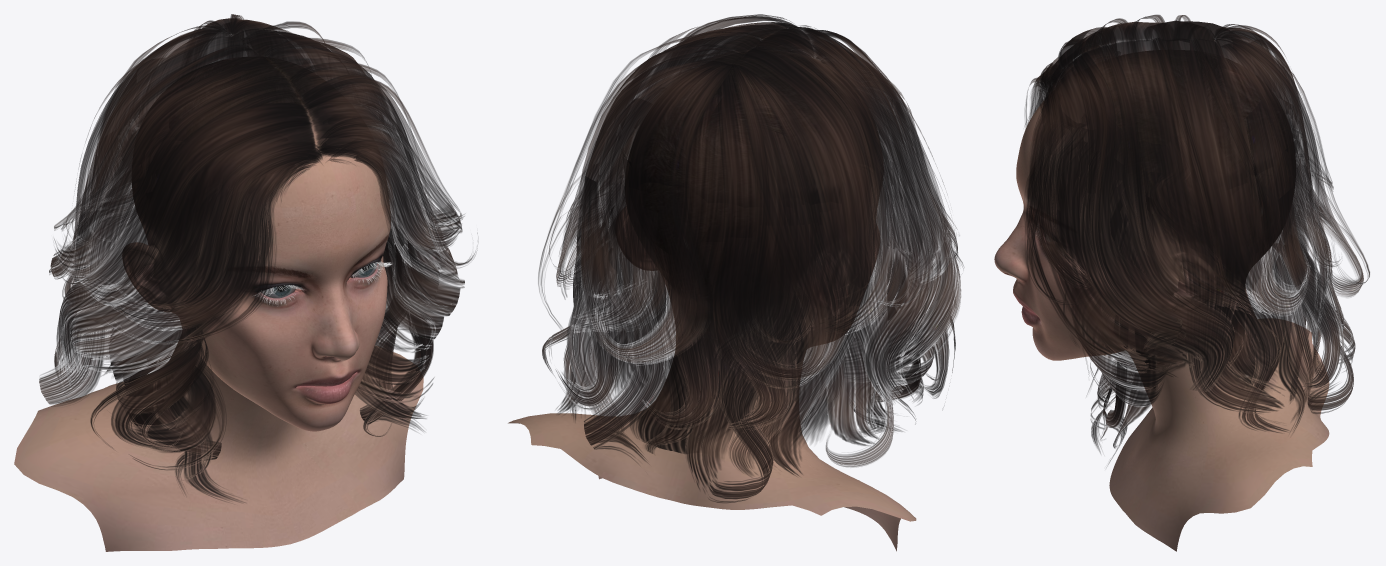
Rendered from angelica.glb.
The picture shows the model from 3 angles, left to right: view 1: azimuth 30°, elevation 25°; view 2: azimuth 150°, elevation 25°; view 3: azimuth 270°, elevation 25°; orthographic projection. The views are drawn at different scales.
Parts seen in each view (by area): view 1: Hair, Head, Eyelashes, Eye; view 2: Hair, Head; view 3: Hair, Head.
Part boxes in pixels (x1=…): Hair: x1=39, y1=14, x2=477, y2=502; Head: x1=14, y1=57, x2=423, y2=551; Eyelashes: x1=254, y1=261, x2=391, y2=304; Eye: x1=261, y1=262, x2=377, y2=298; Hair: x1=538, y1=14, x2=963, y2=502; Head: x1=508, y1=50, x2=916, y2=551; Hair: x1=1024, y1=14, x2=1369, y2=464; Head: x1=994, y1=50, x2=1329, y2=551.
Size of what is drawn, in the model's own units: 171 by 193 by 146.
5 materials, 4 textured.
